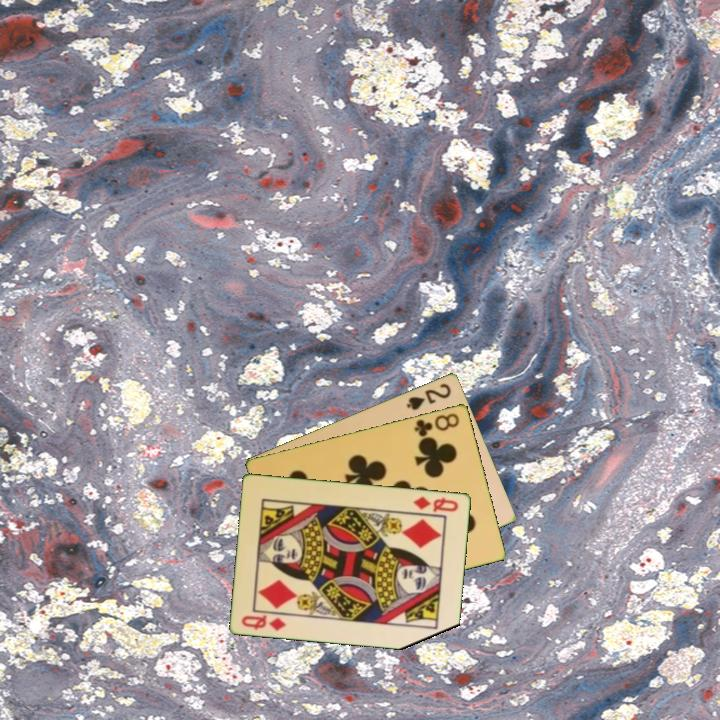2s: (403, 379, 454, 413)
8c: (411, 409, 462, 439)
Qd: (410, 492, 461, 515), (238, 611, 289, 634)
